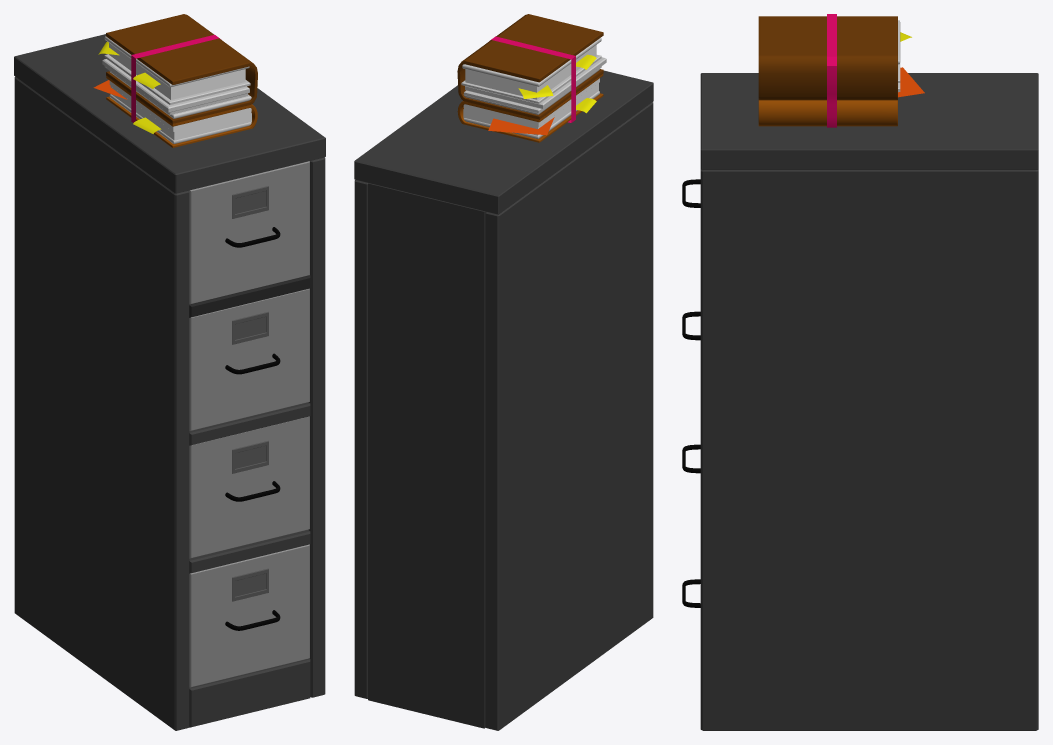
Rendered from Closed File Cabinet.fbx.
3 renders of one model, left to right at view 1: azimuth 30°, elevation 25°; view 2: azimuth 150°, elevation 25°; view 3: azimuth 270°, elevation 25°, orthographic. The views are drawn at different scales.
Visible parts, largest first — view 1: 2. Left, Top, 1. Backup, Draw004, Draw002, Draw003, 1. Left, Folder002.001, Holder 004, Holder 003, Pap 001, Holder 002 (+12 smaller); view 2: 2. Left, Back Rectangle, Top, 1. Left, Folder002.001, Pap 001, Box001, Folder001.001, Pap 006, Box002, Pap 008, Folder Normal Paper (+2 smaller); view 3: 1. Left, Top, Folder002.001, Folder001.001, Box002.
Part boxes in pixels (x1,y1,x2,y2): 2. Left: (14,76,189,730); Top: (14,34,325,193); 1. Backup: (189,161,309,304); Draw004: (189,544,309,687); Draw002: (189,288,309,430); Draw003: (189,416,309,558); 1. Left: (308,157,325,697); Folder002.001: (106,14,257,124); Holder 004: (189,658,310,727); Holder 003: (189,530,310,573); Pap 001: (109,81,251,140); Holder 002: (189,402,310,445); 2. Left: (485,102,653,730); Back Rectangle: (368,183,485,728); Top: (354,70,653,214); 1. Left: (354,180,367,698); Folder002.001: (457,14,603,119); Pap 001: (463,78,599,135); Box001: (465,45,596,99); Folder001.001: (457,74,603,142); Pap 006: (465,57,606,108); Box002: (490,36,575,122); Pap 008: (462,38,601,86); Folder Normal Paper: (488,117,554,135); 1. Left: (700,169,1038,730); Top: (700,73,1038,169); Folder002.001: (758,16,897,100); Folder001.001: (758,100,897,126); Box002: (827,14,836,127).
Size of the model in its own units: 35.68 by 141 by 69.9.
